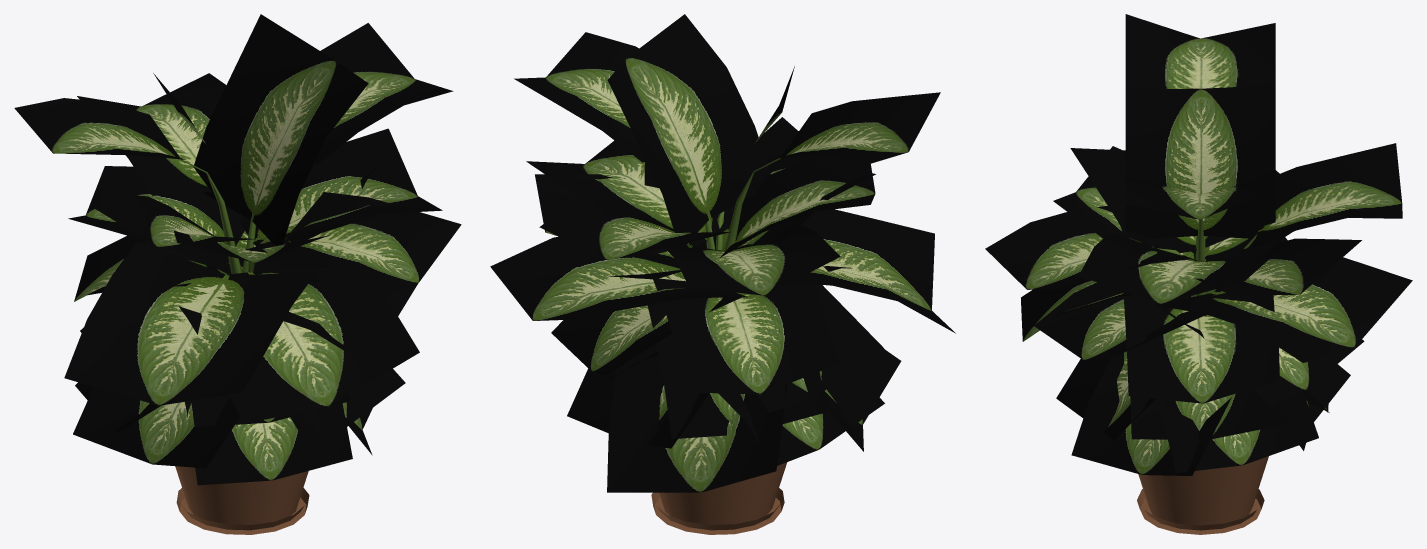
3 views of the same model, side by side, from view 1: azimuth 30°, elevation 25°; view 2: azimuth 150°, elevation 25°; view 3: azimuth 270°, elevation 25° (orthographic). The views are drawn at different scales.
Bounding box in the file's own units: 0.6206 × 0.6908 × 0.6319.
3 materials, 1 textured.
